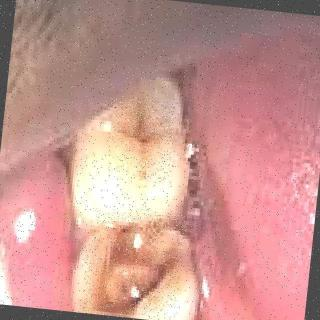cavities: (92, 224, 189, 320), (105, 101, 161, 188)
